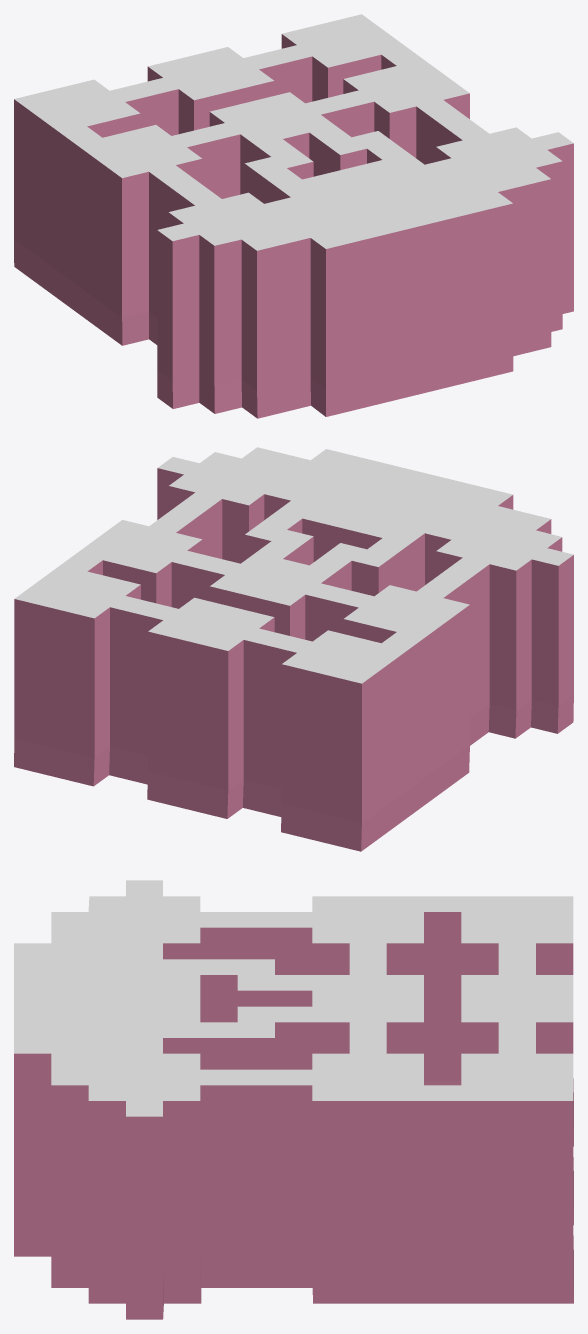
Rendered from lvl3-cliffs.glb.
3 views of the same model, one above another, from view 1: azimuth 30°, elevation 25°; view 2: azimuth 150°, elevation 25°; view 3: azimuth 270°, elevation 25° (orthographic). The views are drawn at different scales.
Parts seen in each view (by area): view 1: Terrain; view 2: Terrain; view 3: Terrain, Tile.029, Tile.055, Tile.077, Tile.082, Tile.120, Tile.065, Tile.070, Tile.081, Tile.101, Tile.131, Tile.133 (+95 smaller).
Part boxes in pixels (bbox=[...]): Terrain: bbox=[14, 17, 573, 418]; Terrain: bbox=[14, 447, 573, 851]; Terrain: bbox=[14, 880, 573, 1319]; Tile.029: bbox=[312, 927, 349, 943]; Tile.055: bbox=[312, 1069, 349, 1085]; Tile.077: bbox=[461, 927, 498, 943]; Tile.082: bbox=[461, 1069, 498, 1085]; Tile.120: bbox=[200, 1069, 237, 1085]; Tile.065: bbox=[349, 943, 386, 959]; Tile.070: bbox=[386, 1053, 423, 1069]; Tile.081: bbox=[461, 1053, 498, 1069]; Tile.101: bbox=[88, 943, 125, 959]; Tile.131: bbox=[498, 1053, 535, 1069]; Tile.133: bbox=[498, 943, 535, 959].
Bounding box in the file's own units: 15 × 6 × 15.02.
